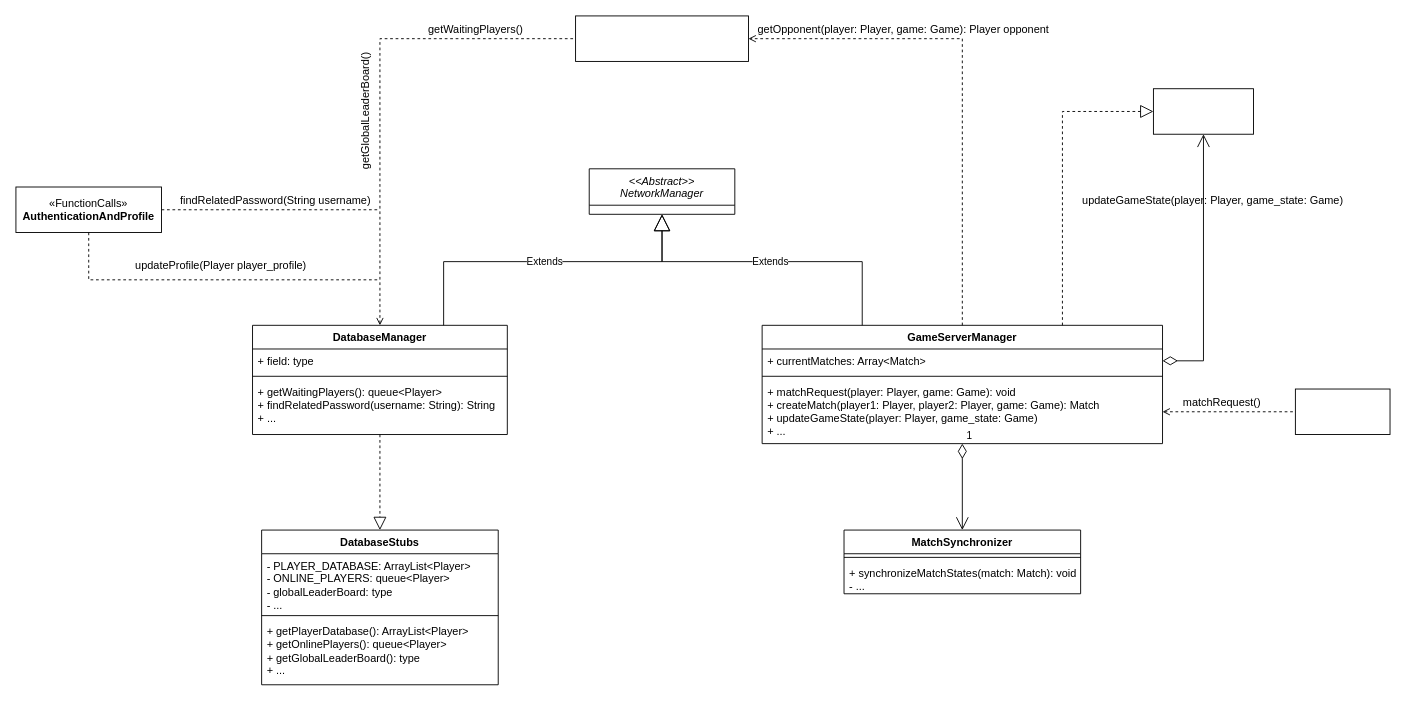
Image size: 1406x703. Some labels were removed from this diagram. Each missing label, with the centre of its shape:
"Match" goes at point (1203, 111).
"«FunctionCalls» GUI" goes at point (1342, 411).
"«FunctionCalls» MatchmakingAndLeaderboard" goes at point (661, 38).
